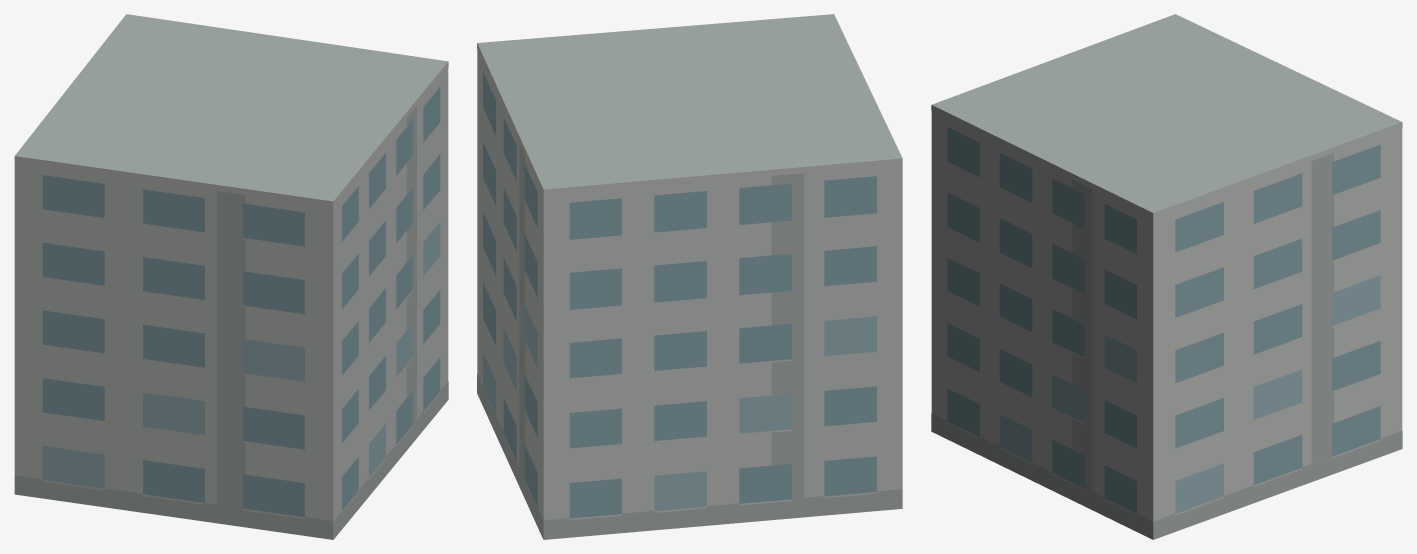
Rendered from survey-upis-33001078.glb.
The picture shows the model from 3 angles, left to right: view 1: azimuth 30°, elevation 25°; view 2: azimuth 150°, elevation 25°; view 3: azimuth 270°, elevation 25°; orthographic projection. The views are drawn at different scales.
Parts seen in each view (by area): view 1: survey-upis-33001078.tmp; view 2: survey-upis-33001078.tmp; view 3: survey-upis-33001078.tmp.
Part boxes in pixels (box(x1,y1,x2,y2)): survey-upis-33001078.tmp: box(14, 14, 448, 539); survey-upis-33001078.tmp: box(477, 14, 902, 539); survey-upis-33001078.tmp: box(931, 14, 1402, 539).
Bounding box in the file's own units: 17.77 × 13.6 × 17.77.
